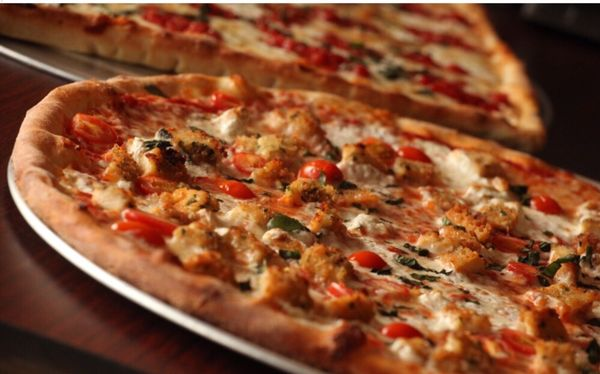sandwich: (10, 66, 597, 370), (19, 4, 547, 150)
